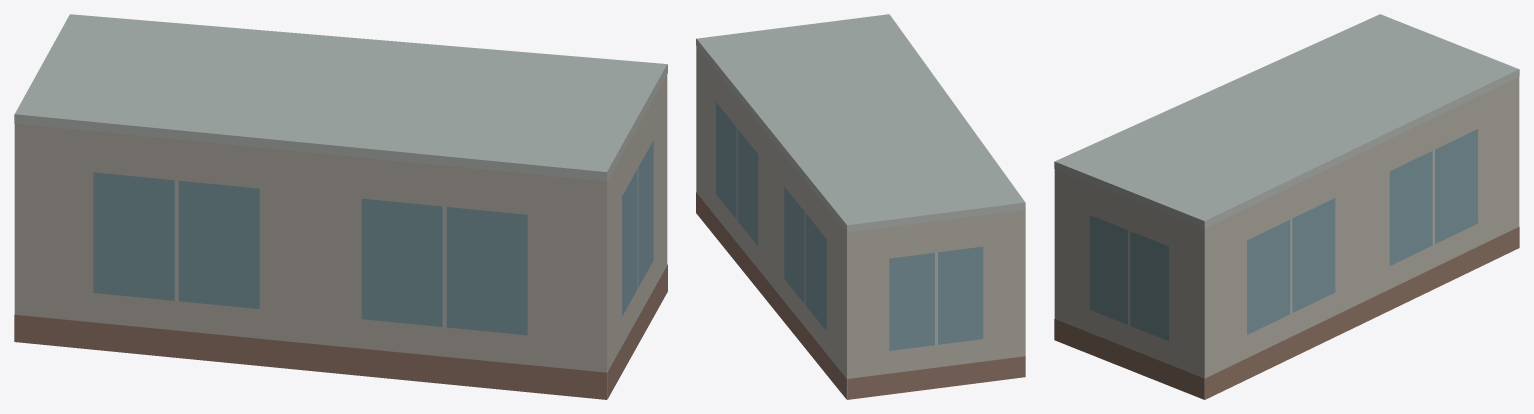
Rendered from survey-upis-32524055.glb.
3 views of the same model, side by side, from view 1: azimuth 30°, elevation 25°; view 2: azimuth 150°, elevation 25°; view 3: azimuth 270°, elevation 25° (orthographic). The views are drawn at different scales.
Visible parts, largest first — view 1: survey-upis-32524055.tmp; view 2: survey-upis-32524055.tmp; view 3: survey-upis-32524055.tmp.
Part boxes in pixels (x1,y1,x2,y2): survey-upis-32524055.tmp: (14,14,667,399); survey-upis-32524055.tmp: (696,14,1025,399); survey-upis-32524055.tmp: (1054,14,1519,399).
Size of the model in its own units: 7.6 by 3.05 by 7.2.
